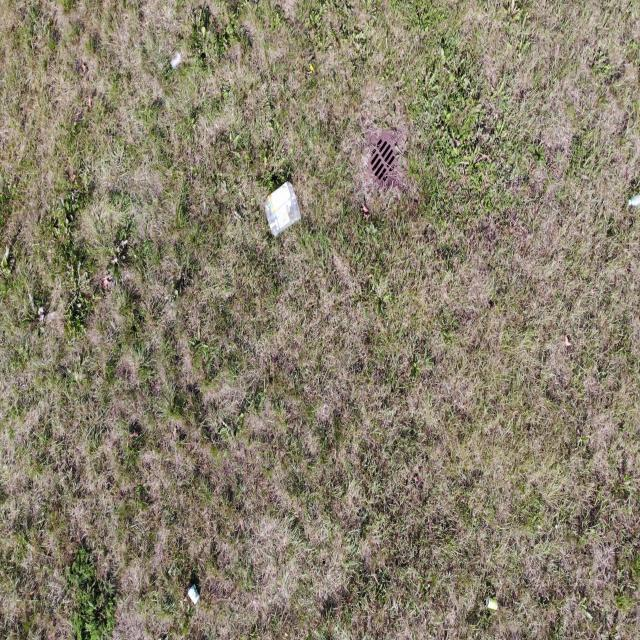rubbish: (264, 180, 301, 237), (169, 49, 184, 70), (186, 582, 200, 604), (486, 596, 497, 611), (628, 193, 640, 205)
